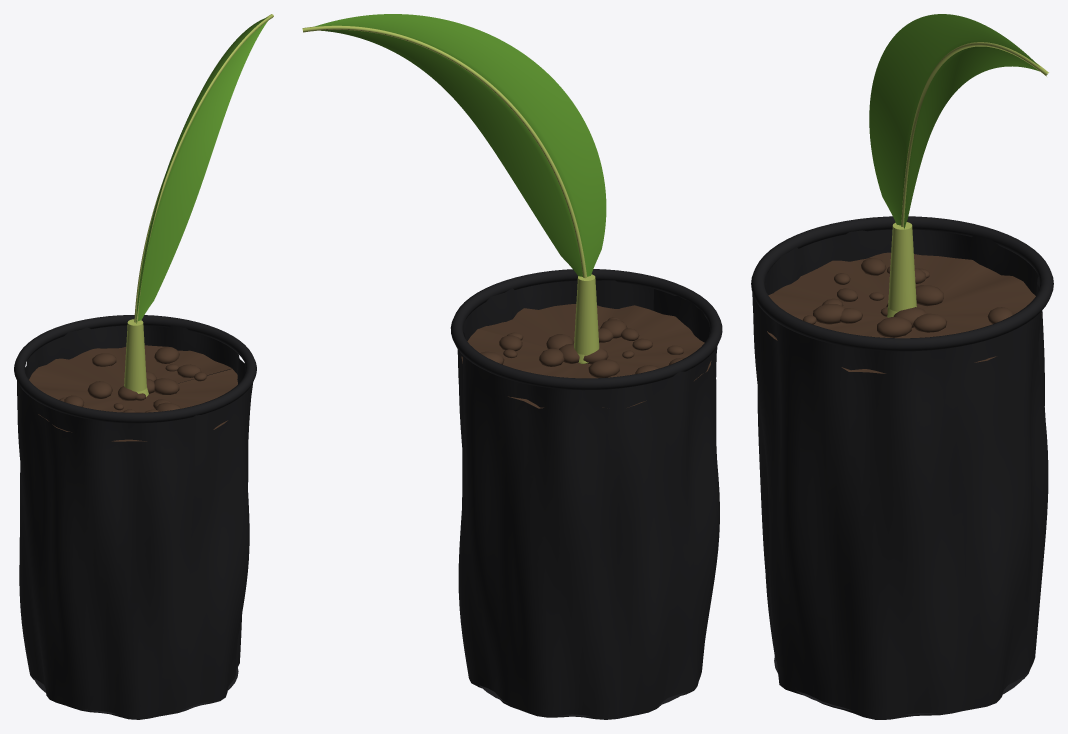
File: bibit-sawit-1-bulan.glb
3 views of the same model, side by side, from view 1: azimuth 30°, elevation 25°; view 2: azimuth 150°, elevation 25°; view 3: azimuth 270°, elevation 25° (orthographic). The views are drawn at different scales.
Parts seen in each view (by area): view 1: polybag, daun_helai_1, tanah_permukaan, polybag_bibir, batang, tulang_daun; view 2: polybag, daun_helai_1, tanah_permukaan, polybag_bibir, tulang_daun, batang; view 3: polybag, daun_helai_1, tanah_permukaan, polybag_bibir, batang, tulang_daun, gumpalan_tanah_21, gumpalan_tanah_7, gumpalan_tanah_15, gumpalan_tanah_10.
Boxes of the visible parts, x1,y1,x2,y2 form: polybag: (17,325,252,719); daun_helai_1: (136,17,267,323); tanah_permukaan: (29,345,237,441); polybag_bibir: (14,315,256,423); batang: (124,319,146,396); tulang_daun: (134,14,273,322); polybag: (457,280,719,719); daun_helai_1: (314,14,606,276); tanah_permukaan: (461,304,711,408); polybag_bibir: (450,269,722,390); tulang_daun: (302,25,586,278); batang: (574,274,599,363); polybag: (752,229,1048,719); daun_helai_1: (869,14,1047,228); tanah_permukaan: (767,252,1041,373); polybag_bibir: (751,216,1053,351); batang: (888,222,916,311); tulang_daun: (901,42,1048,227); gumpalan_tanah_21: (877,317,911,337); gumpalan_tanah_7: (913,313,946,332); gumpalan_tanah_15: (813,303,845,324); gumpalan_tanah_10: (915,285,943,306).
Size of the model in its own units: 0.1554 by 0.2848 by 0.1085.
